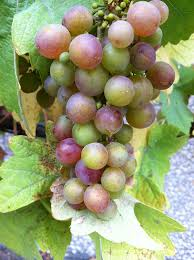grapes: (36, 13, 173, 215)
